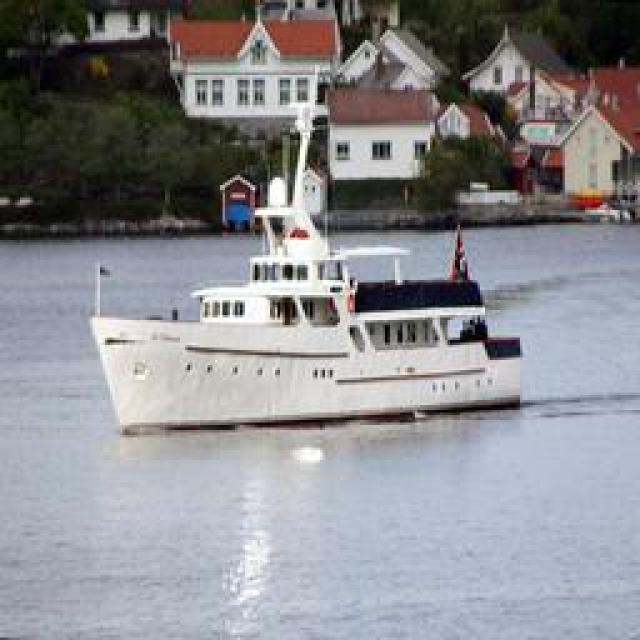Ship: (94, 144, 519, 429)
